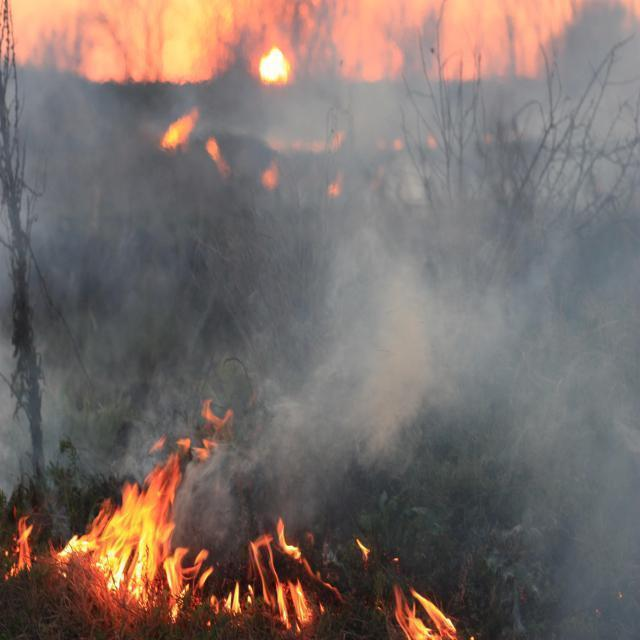Fire: (57, 450, 356, 636), (0, 0, 636, 77), (64, 449, 184, 609), (158, 105, 277, 191)
Smoke: (323, 244, 576, 417)
